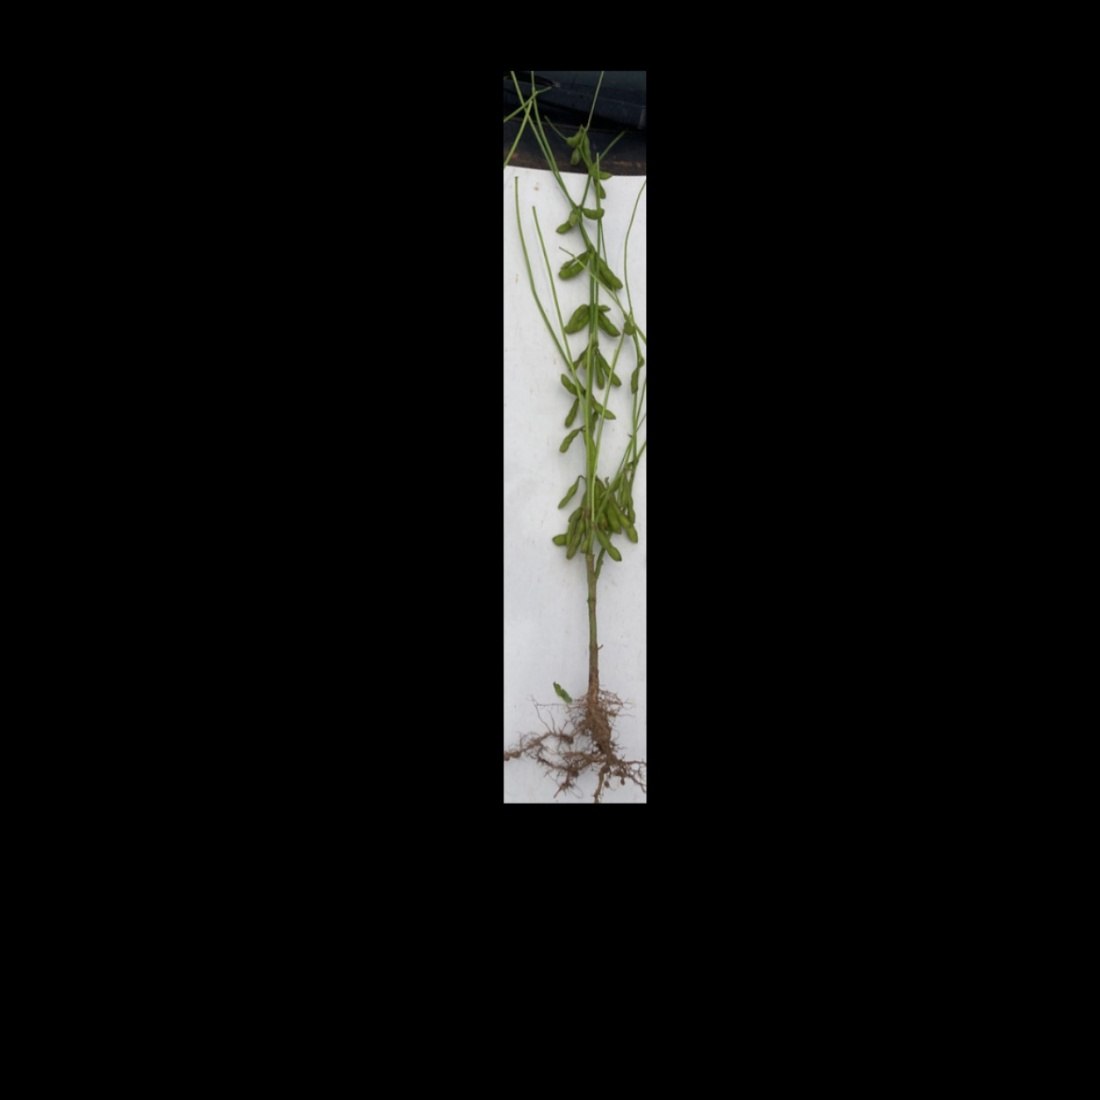pod: (595, 251, 626, 292), (592, 527, 623, 565), (554, 474, 582, 511), (557, 424, 585, 455), (589, 392, 618, 421), (595, 310, 622, 340), (561, 394, 582, 430), (565, 300, 589, 328), (585, 166, 617, 181), (575, 207, 609, 220)
soy: (528, 98, 640, 782)
